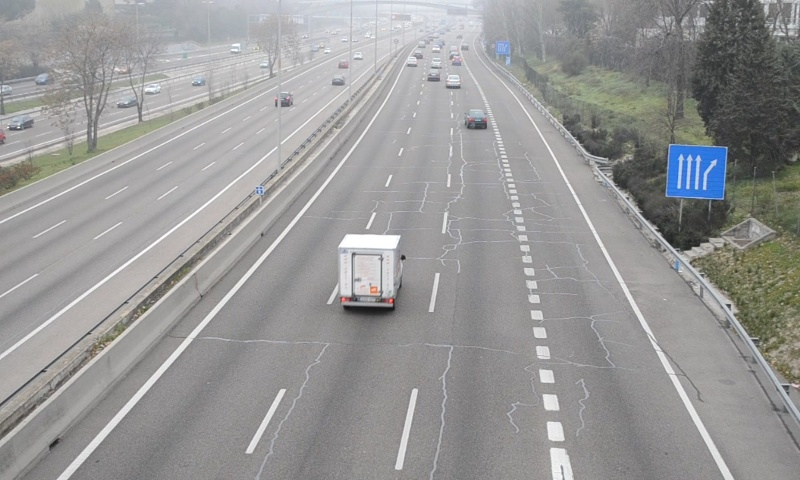car: (465, 108, 488, 128)
small-truck: (339, 235, 405, 310)
